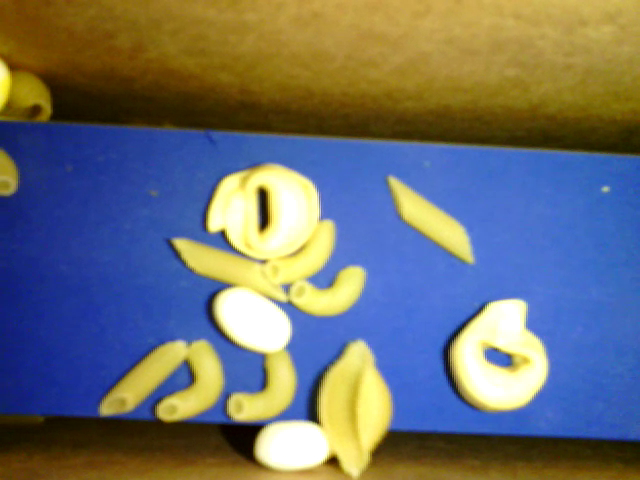elbow: (155, 335, 224, 425), (227, 347, 298, 426), (263, 220, 339, 290), (285, 266, 368, 317), (2, 151, 20, 199)
penne: (385, 174, 476, 266), (97, 336, 191, 418), (171, 236, 288, 300)
shell: (312, 333, 393, 477), (2, 67, 53, 127)
tortellini: (200, 160, 321, 263), (444, 298, 551, 411)
